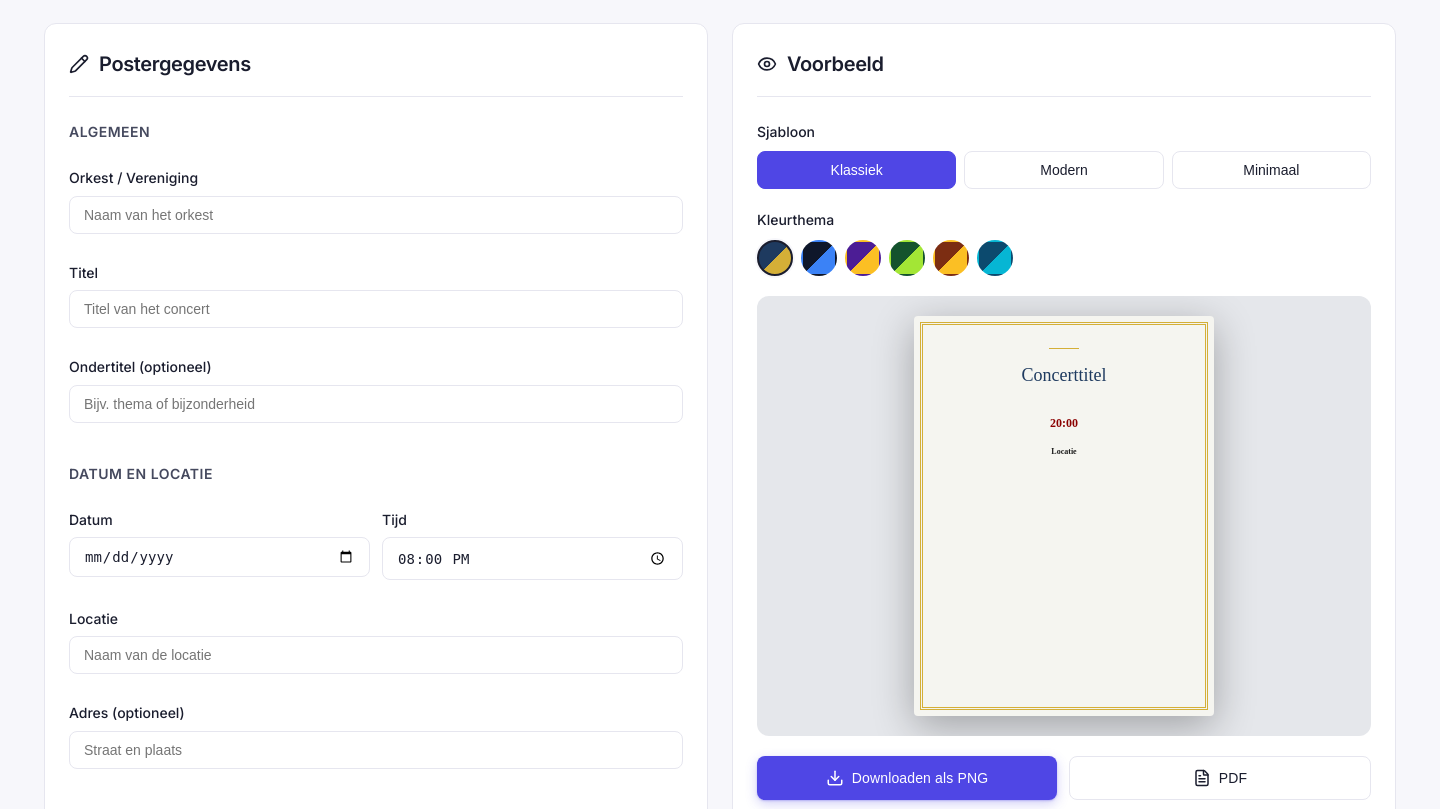
Test: de velden en het voorbeeld › zet locatie, adres en ticketinformatie meteen op de poster
Type "De Zaal" into the field labelled "Locatie".
click(376, 655); type("De Zaal")  # box x1=69 y1=636 x2=683 y2=674
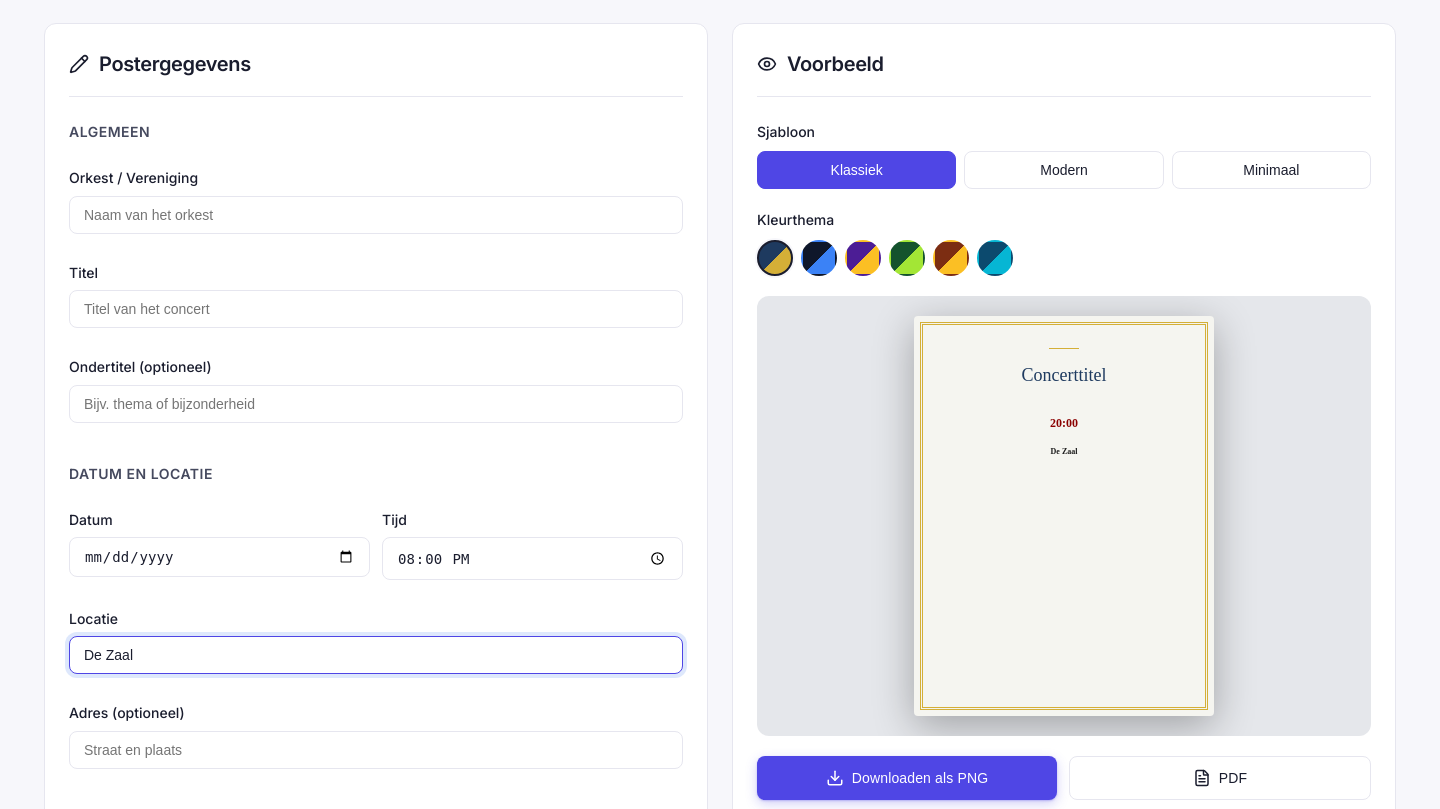
Type "Kerkstraat 1" into the field labelled "Adres (optioneel)".
click(376, 750); type("Kerkstraat 1")  # box x1=69 y1=731 x2=683 y2=769
(page scrolled)
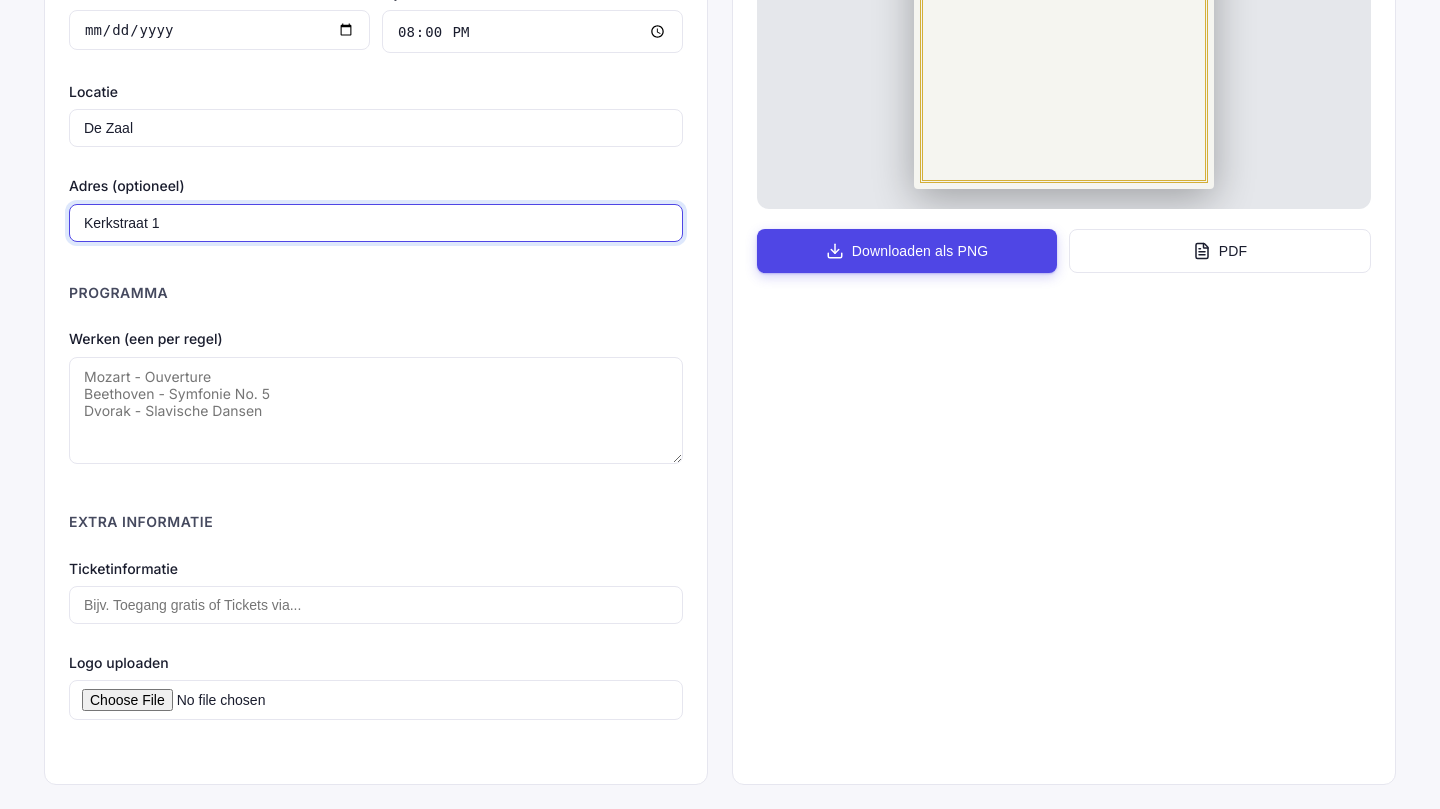
Type "Gratis" into the field labelled "Ticketinformatie".
click(376, 605); type("Gratis")  # box x1=69 y1=586 x2=683 y2=624
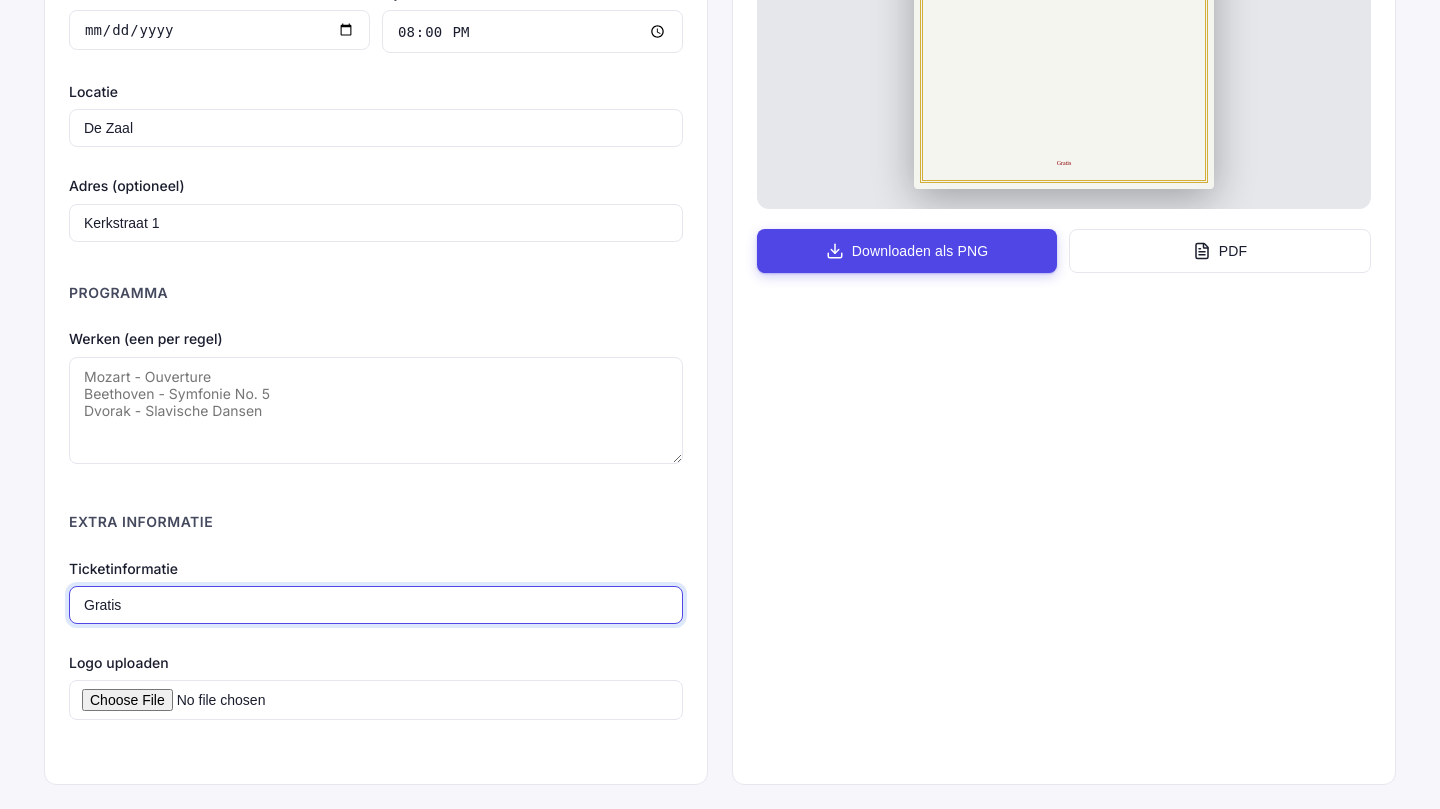
expect the text "Gratis" is shown: met, box x1=1057 y1=160 x2=1071 y2=166
